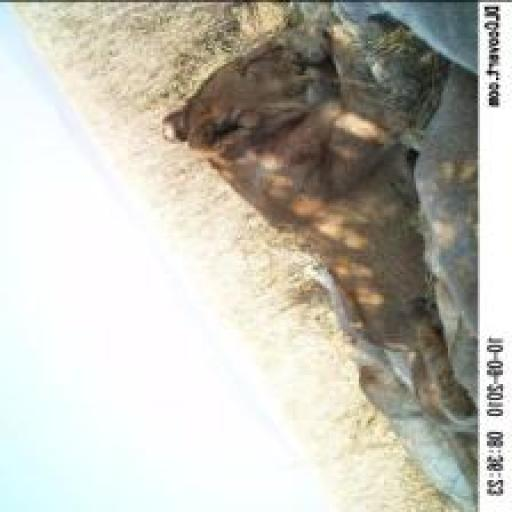lion: (146, 9, 477, 460)
